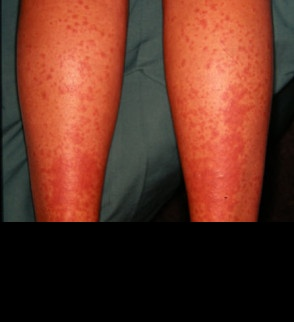SJS-TEN: (21, 0, 123, 229), (170, 0, 270, 220)
